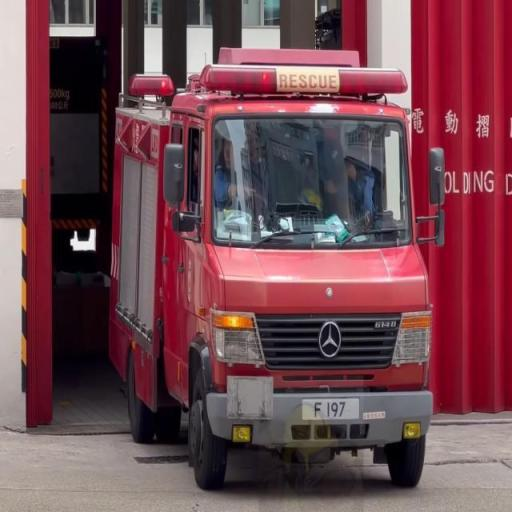fire truck: (96, 32, 438, 504)
